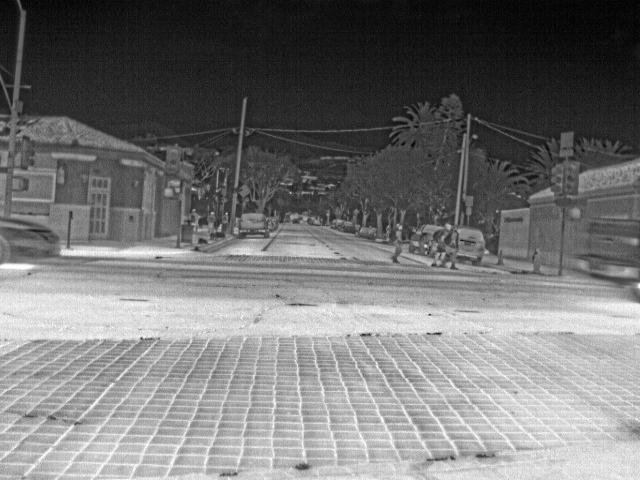car: (585, 214, 639, 304), (0, 214, 58, 281), (454, 226, 485, 266), (237, 212, 271, 241), (411, 221, 434, 255), (356, 226, 377, 242), (339, 218, 356, 232), (330, 218, 345, 230), (268, 218, 280, 232), (312, 215, 326, 226), (292, 216, 303, 223)
person: (445, 223, 462, 273), (392, 222, 405, 266), (434, 228, 446, 269), (187, 206, 201, 226), (208, 211, 217, 231), (221, 211, 229, 225)
